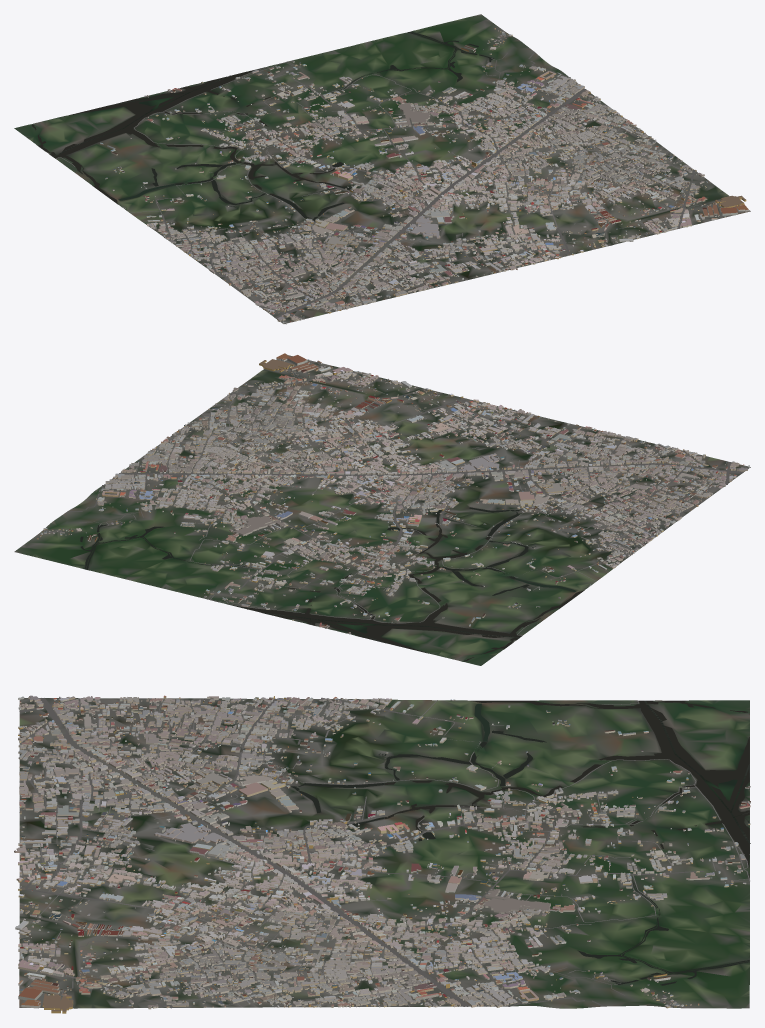
3 views of the same model, one above another, from view 1: azimuth 30°, elevation 25°; view 2: azimuth 150°, elevation 25°; view 3: azimuth 270°, elevation 25° (orthographic). The views are drawn at different scales.
Visible parts, largest first — view 1: ground, buildings, roads, water; view 2: ground, buildings, roads, water; view 3: ground, buildings, roads, water.
Part boxes in pixels (x1=…): ground: x1=14, y1=14, x2=750, y2=323; buildings: x1=100, y1=28, x2=748, y2=324; roads: x1=56, y1=34, x2=722, y2=319; water: x1=31, y1=31, x2=493, y2=221; ground: x1=14, y1=355, x2=750, y2=665; buildings: x1=37, y1=353, x2=749, y2=634; roads: x1=42, y1=361, x2=743, y2=635; water: x1=80, y1=507, x2=583, y2=661; ground: x1=19, y1=698, x2=749, y2=1008; buildings: x1=14, y1=695, x2=750, y2=1013; roads: x1=19, y1=697, x2=749, y2=1008; water: x1=290, y1=700, x2=750, y2=985.
Size of the model in its own units: 2854 by 30.49 by 2827.
